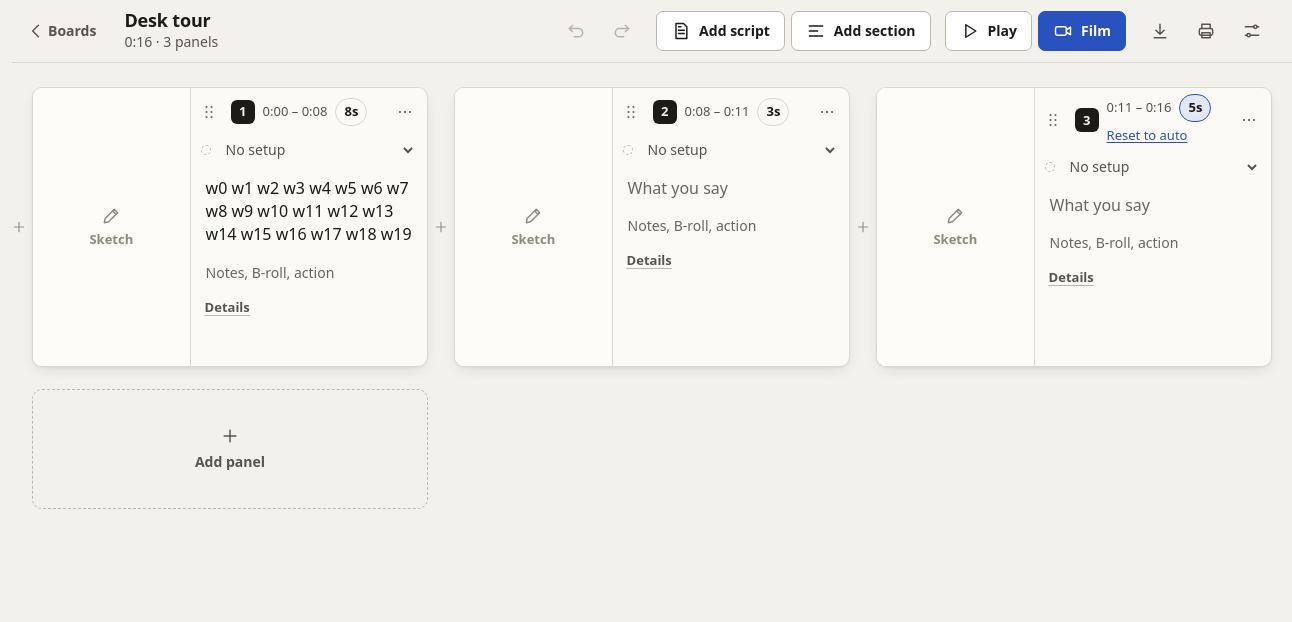
Test: an invalid duration leaves the panel unchanged
Click the button named "Duration 8s" at x=351, y=112, box [336,98,367,126]
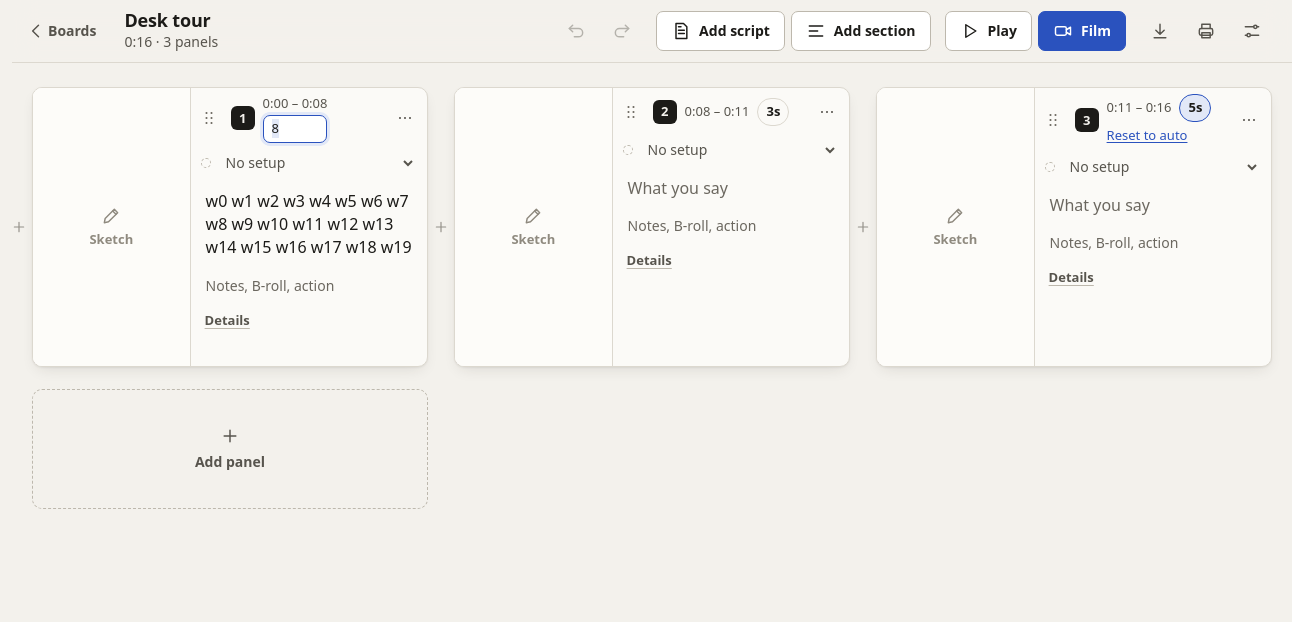
Replace the text in the field named "Duration in seconds" with "abc" at x=295, y=129, box [263,115,327,143]
Then press Enter
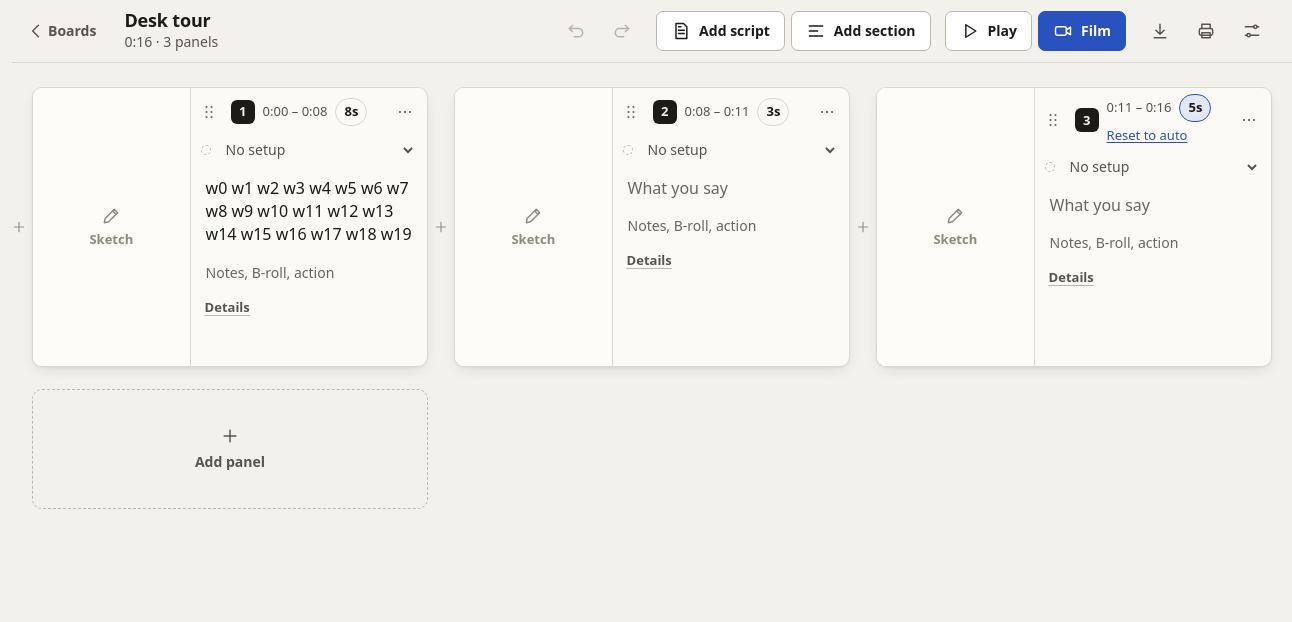
Check: the button named "Duration 8s" is shown
Click the button named "Duration 8s" at x=351, y=112, box [336,98,367,126]
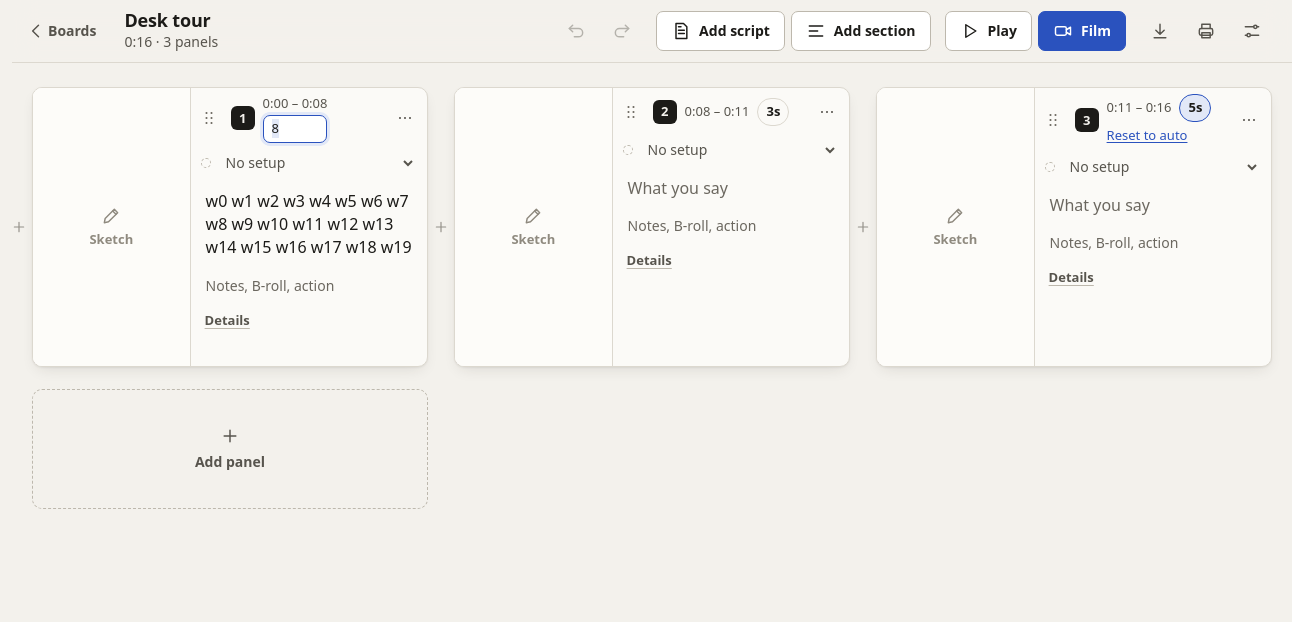
Replace the text in the field named "Duration in seconds" with "0" at x=295, y=129, box [263,115,327,143]
Then press Enter
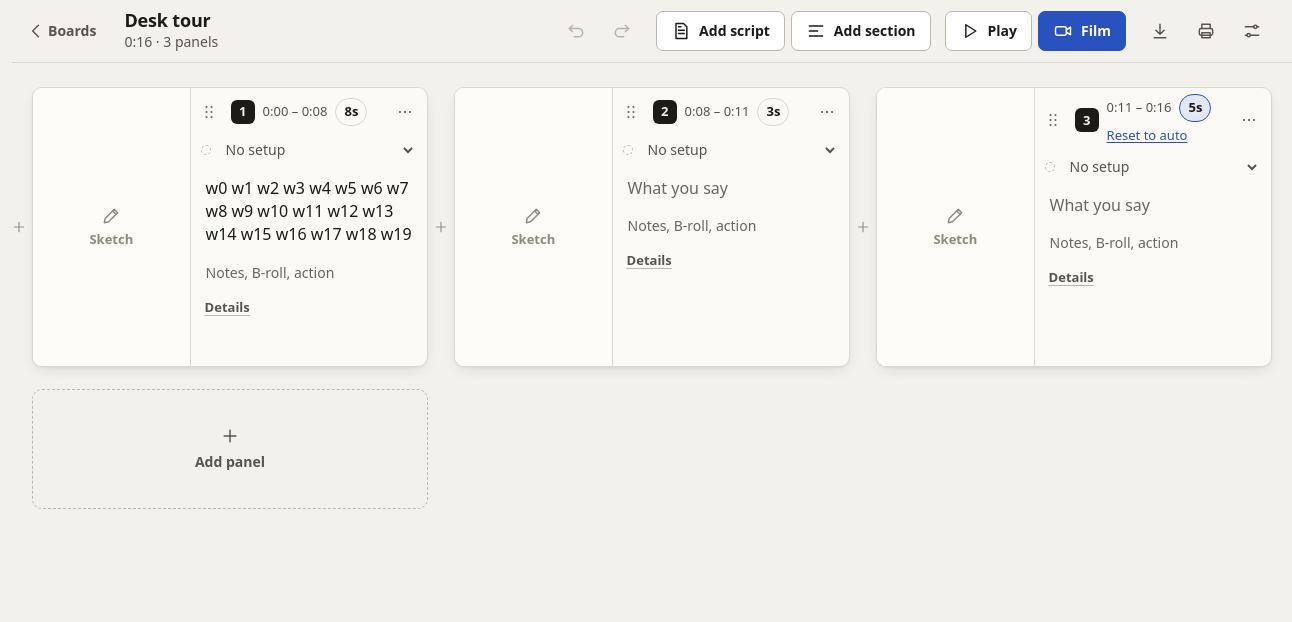
Check: the button named "Duration 8s" is shown
Click the button named "Duration 8s" at x=351, y=112, box [336,98,367,126]
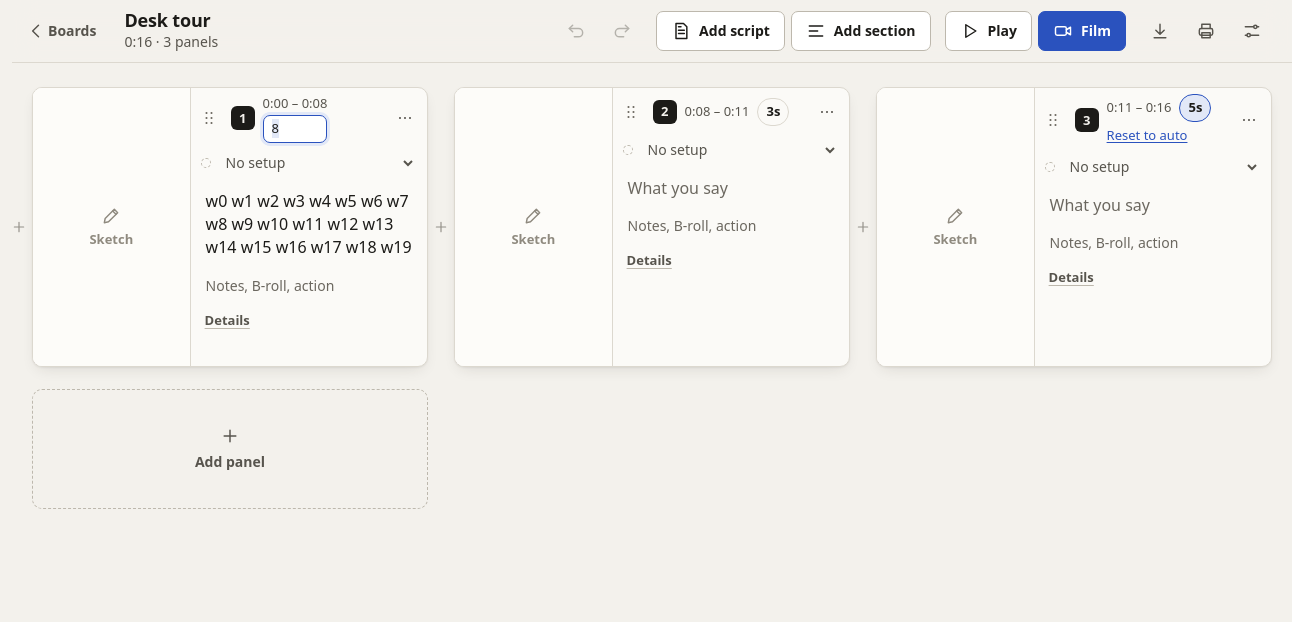
Replace the text in the field named "Duration in seconds" with "-2" at x=295, y=129, box [263,115,327,143]
Then press Enter
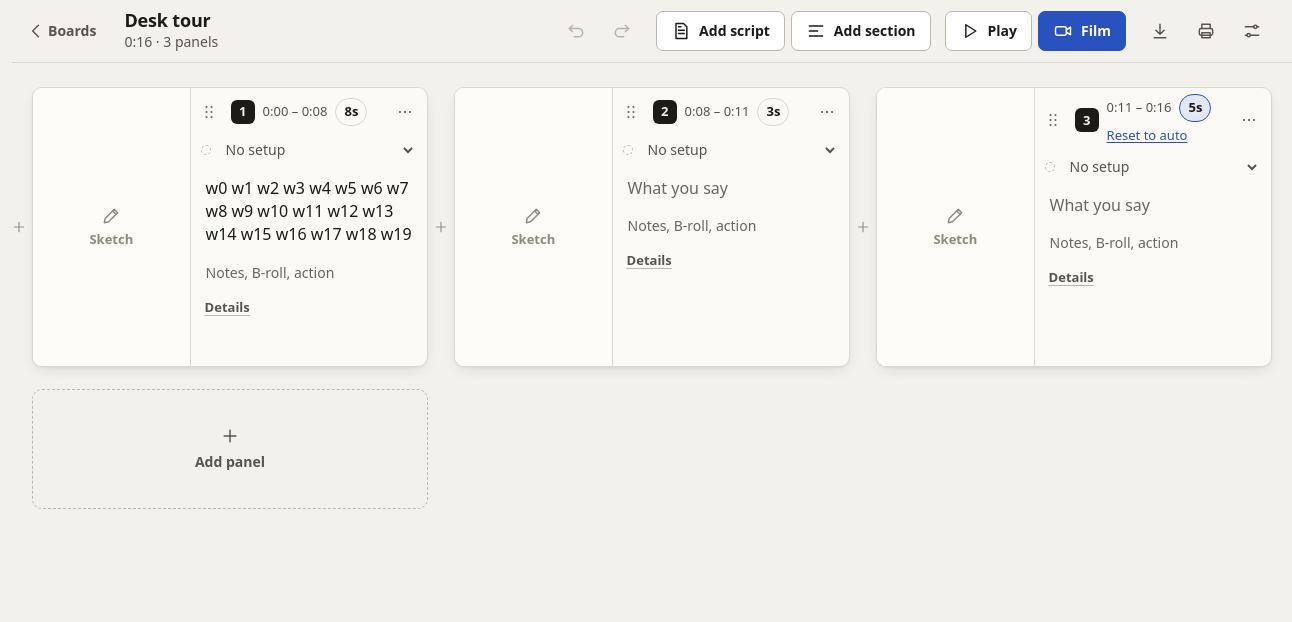
Check: the button named "Duration 8s" is shown, box [336,98,367,126]
